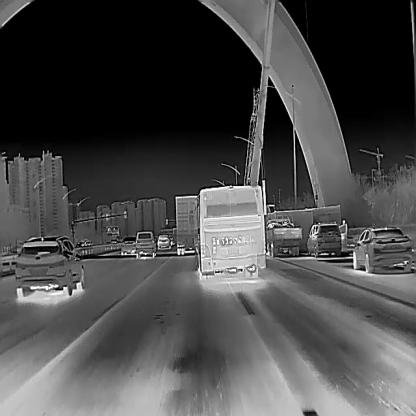bus: (197, 184, 266, 278)
car: (14, 236, 84, 296), (352, 227, 412, 272), (306, 221, 347, 258), (135, 230, 156, 258), (121, 236, 136, 254), (157, 234, 170, 249), (84, 240, 92, 247)
truck: (265, 213, 302, 256), (175, 194, 198, 254)
